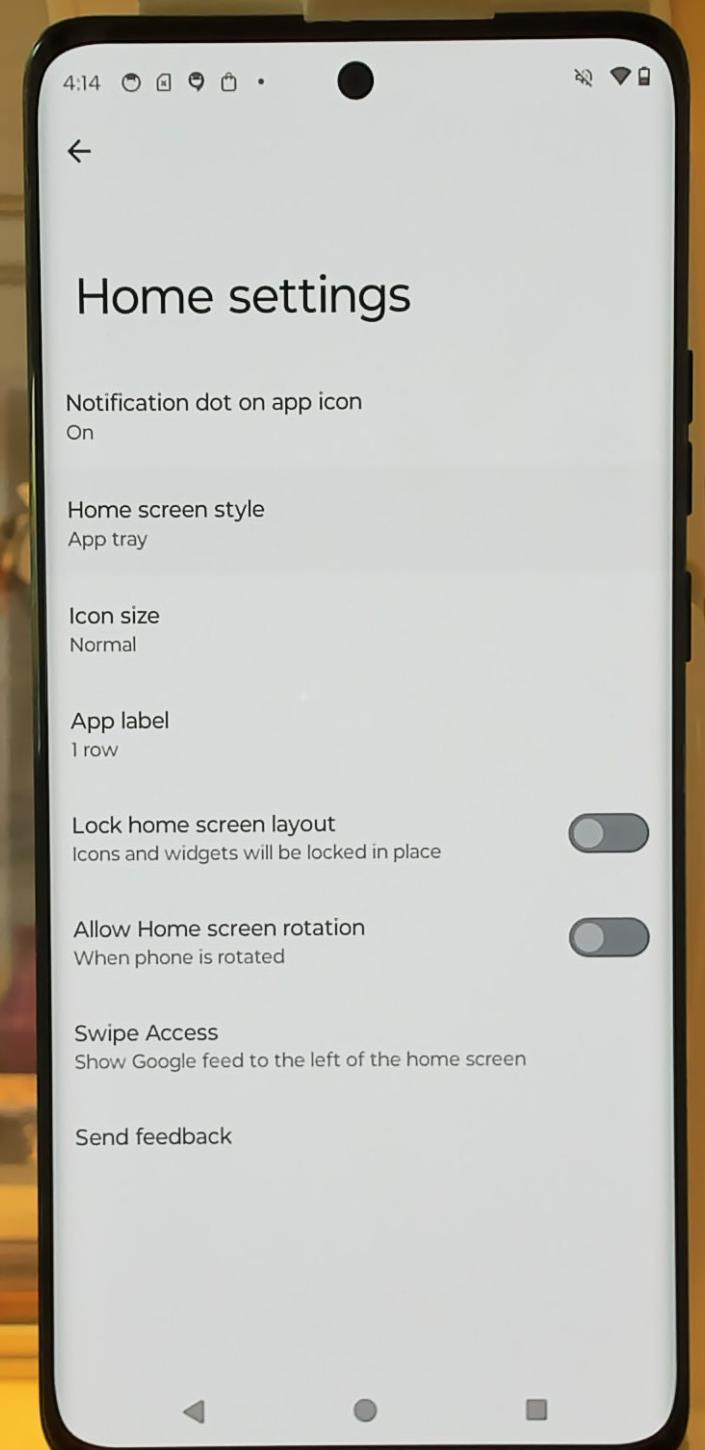Checkbox: (63, 790, 654, 877), (60, 903, 661, 975)
